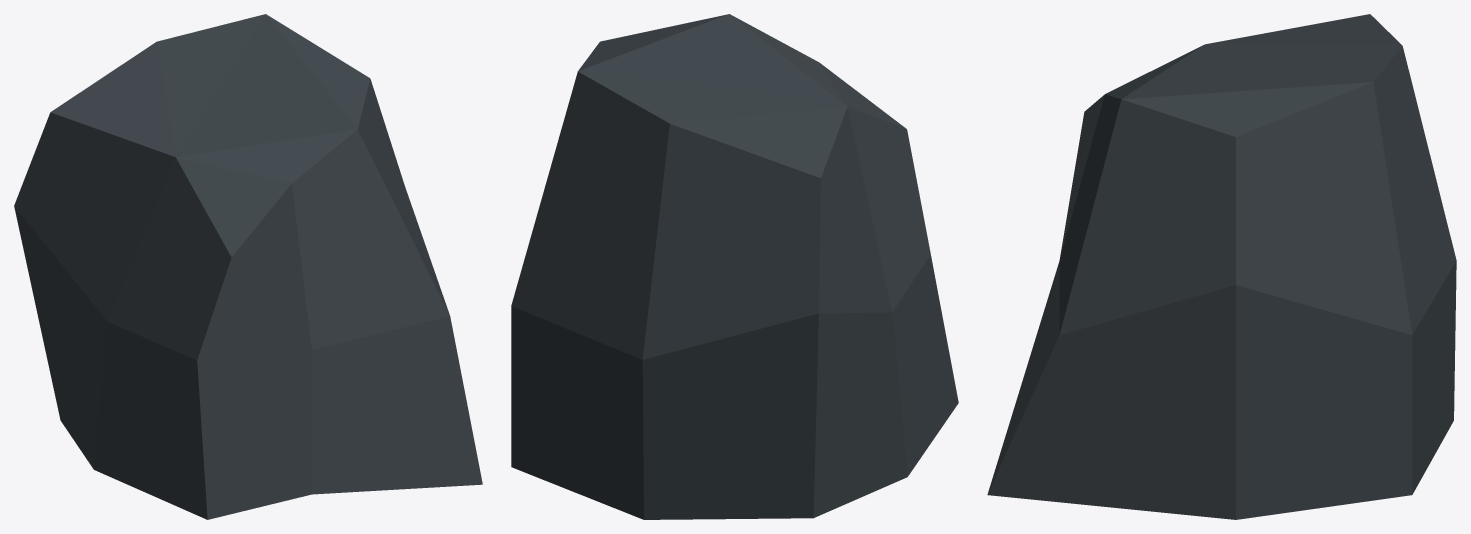
File: FlatRock-A15.fbx
3 renders of one model, left to right at view 1: azimuth 30°, elevation 25°; view 2: azimuth 150°, elevation 25°; view 3: azimuth 270°, elevation 25°, orthographic. The views are drawn at different scales.
Visible parts, largest first — view 1: FlatRock-A15; view 2: FlatRock-A15; view 3: FlatRock-A15.
Part boxes in pixels (left/top/right/bottom): FlatRock-A15: left=14, top=14, right=482, bottom=519; FlatRock-A15: left=511, top=14, right=958, bottom=519; FlatRock-A15: left=987, top=14, right=1456, bottom=519.
Bounding box in the file's own units: 233 × 244 × 266.
